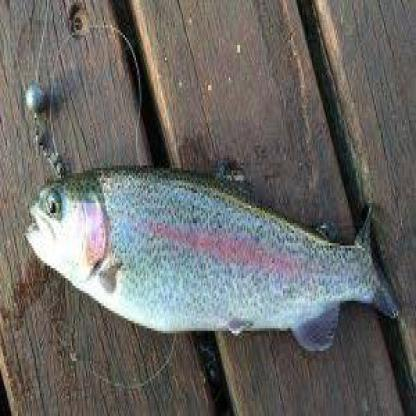fish: (25, 154, 398, 352)
